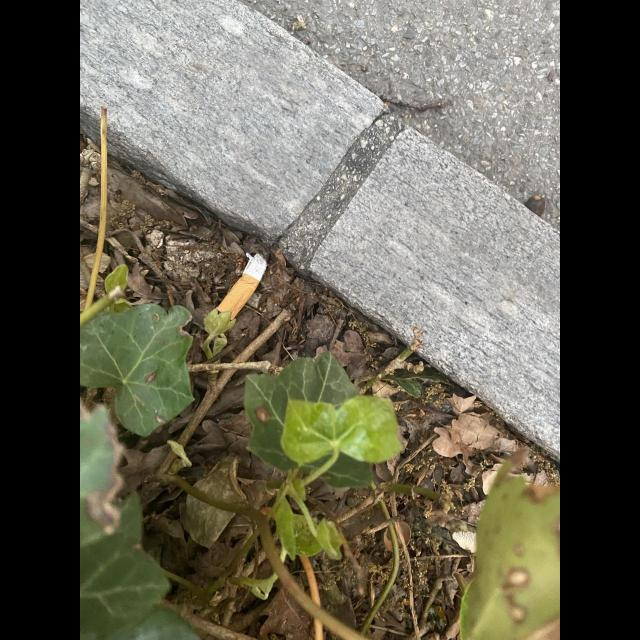cigarette: (216, 254, 266, 322)
